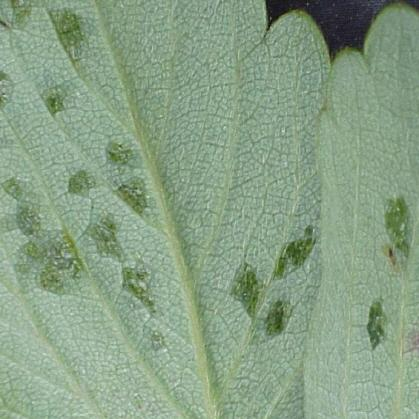Angular Leafspot: (0, 0, 331, 418), (300, 0, 418, 418)
